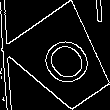O_SE: (29, 28, 98, 94)
